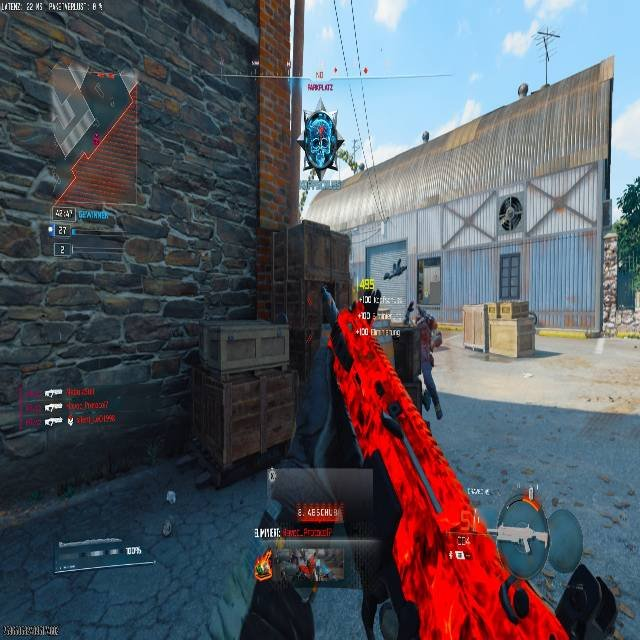head: (406, 301, 420, 318)
player: (401, 302, 444, 420)
